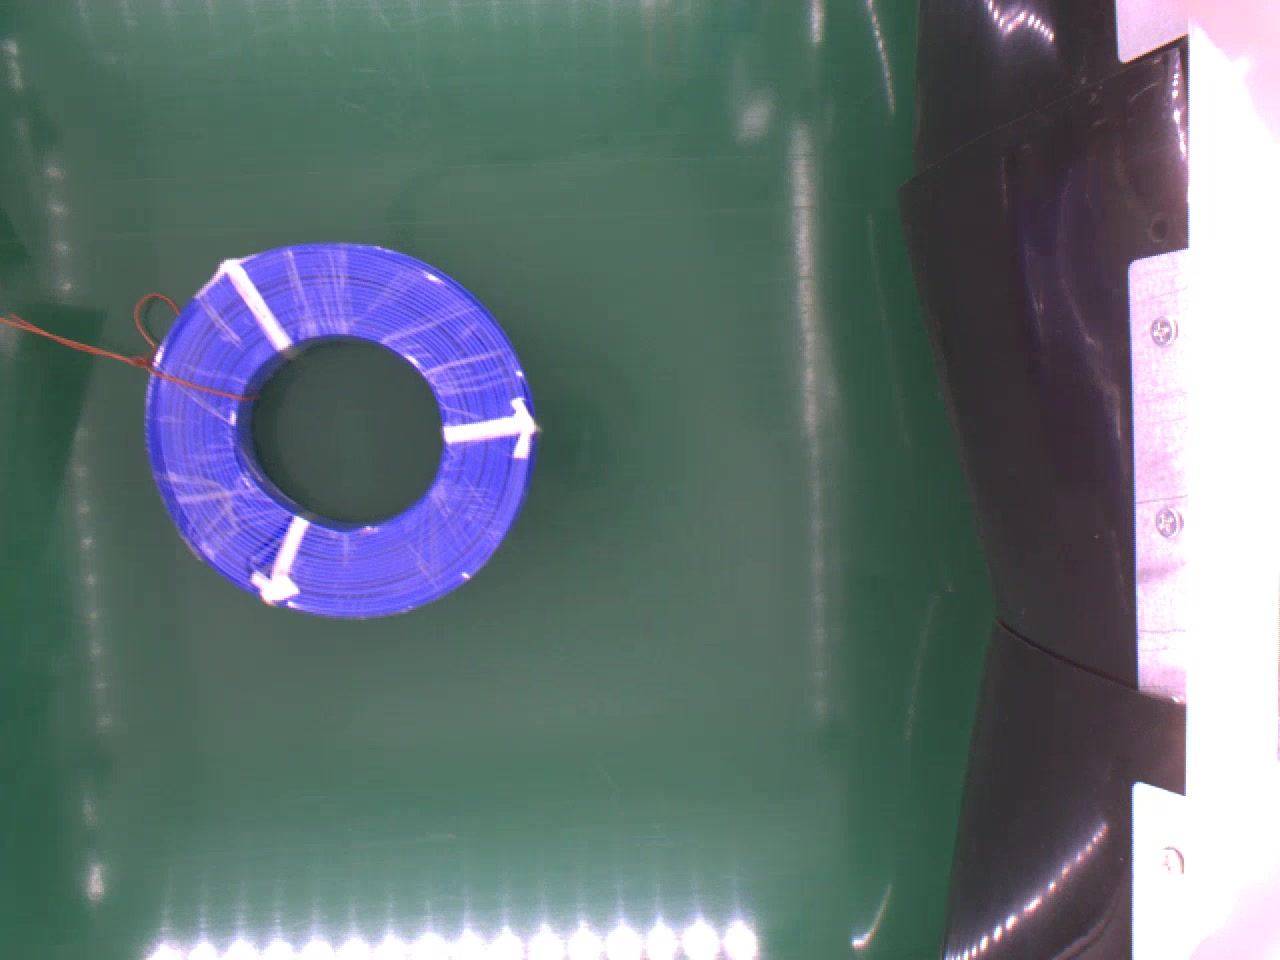blue: (143, 240, 536, 612)
